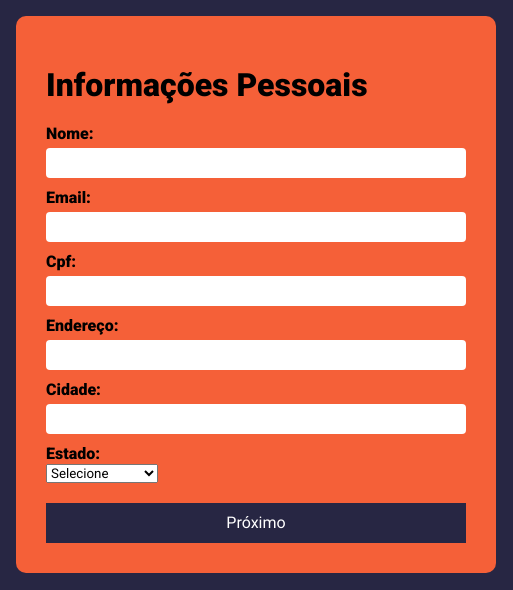
Test case: 01 - Implementando as rotas e estrutura das páginas › Formulário de dados pessoais redireciona corretamente para o formulário de dados profissionais quando está preenchido
Type "Nome Teste" into the field labelled "Nome:". click: (256, 162)
box: [46,148,466,178]
Type "email@teste.com" into the field labelled "Email:". click: (256, 226)
box: [46,212,466,242]
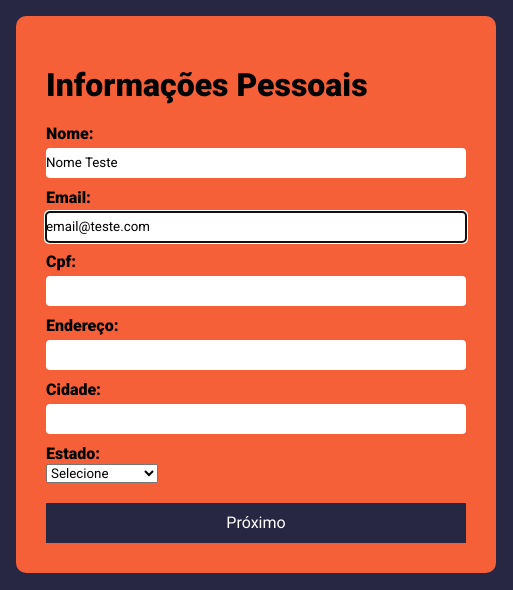
Type "123.456.789-00" into the field labelled "Cpf:". click: (256, 290)
box: [46,276,466,306]
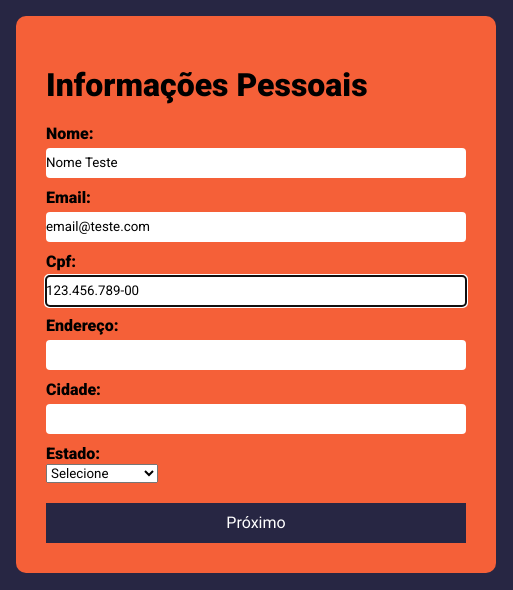
Type "Rua Teste" into the field labelled "Endereço:". click: (256, 354)
box: [46,340,466,370]
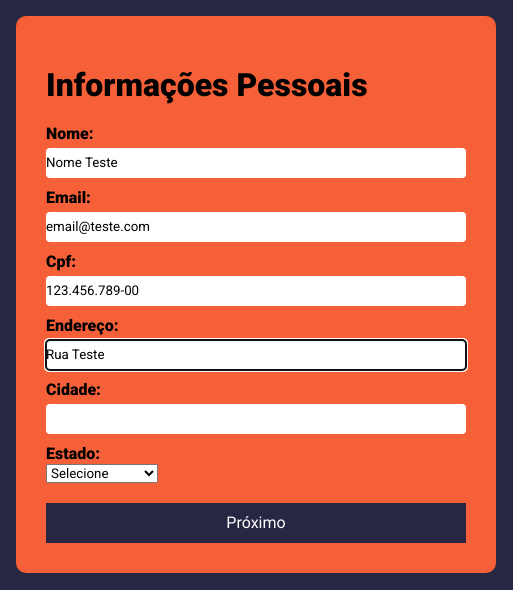
Type "Cidade Teste" into the field labelled "Cidade:". click: (256, 418)
box: [46,404,466,434]
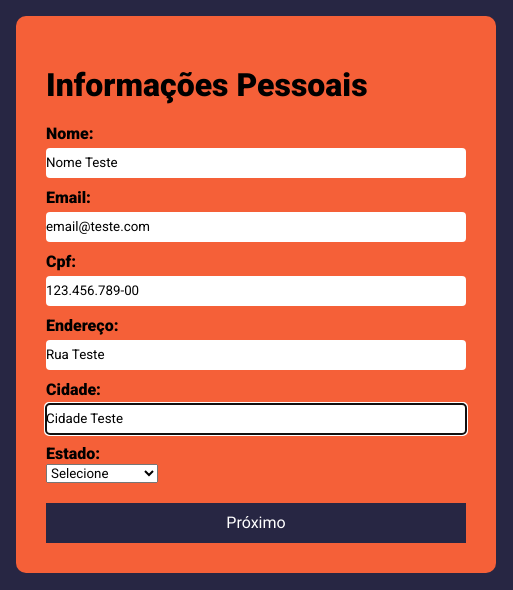
Select "Amapá" in the dropdown labelled "Estado:". click: (102, 473)
box: [46,464,158,482]
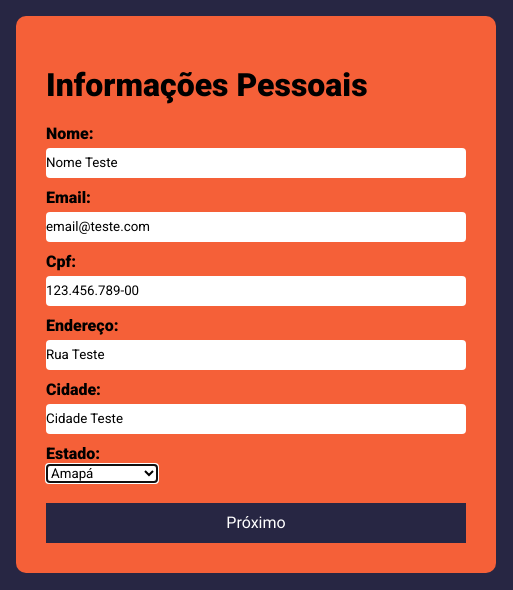
Click the button "Próximo". click: click(256, 522)
box: [46,502,466,542]
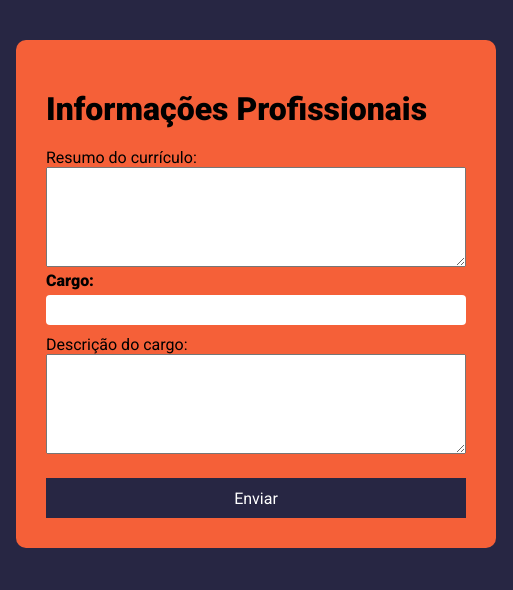
Now the heading "Informações Profissionais" is shown, box [46,90,466,128]
